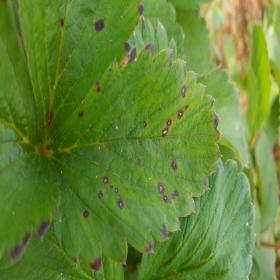Leaf Spot: (45, 41, 223, 273), (17, 0, 145, 148)
